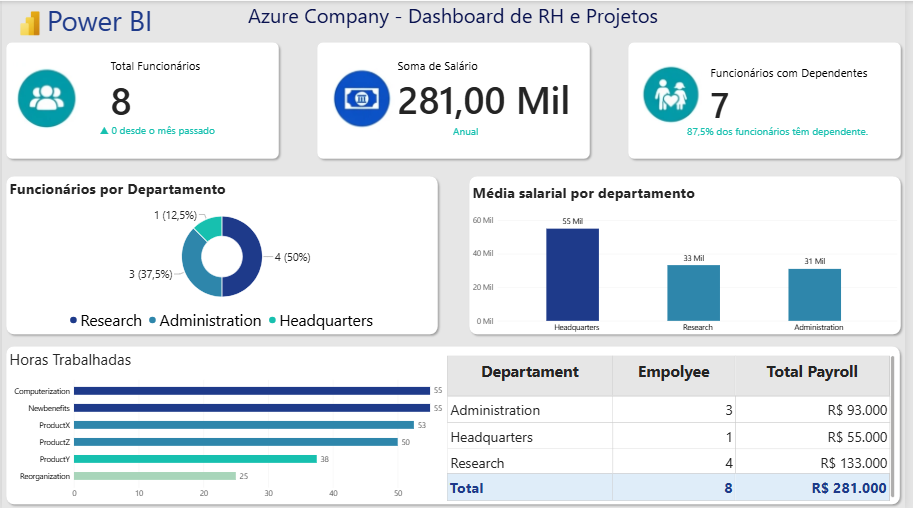

Layout of this report page (visuals, bound fields, positions):
{"tool":"powerbi","page":{"name":"Página 1","canvas":[1920,1080],"ordinal":0},"visuals":[{"type":"shape","box":[661.2,79.4,597.4,265.7],"z":0,"group":"g1"},{"type":"shape","box":[0,362.5,935.3,354],"z":0},{"type":"shape","box":[1322.4,79.4,597.4,265.7],"z":1000,"group":"g1"},{"type":"shape","box":[984.7,362.5,935.3,354],"z":1000},{"type":"shape","box":[0,79.4,597.4,265.7],"z":2000,"group":"g1"},{"type":"shape","box":[0,725.1,1917.9,354],"z":2000},{"type":"cardVisual","fields":{"Data":["CountNonNull(azure_company employee.Ssn)"]},"box":[214.5,123.3,248.7,138.2],"z":3000,"group":"g1"},{"type":"textbox","box":[227.4,291.8,223.1,42.9],"z":3000},{"type":"group","id":"g1","title":"Grupo 1","box":[0,79.4,1920,263.9],"z":4000},{"type":"image","box":[19.3,123.3,154.5,156.6],"z":4000,"group":"g1"},{"type":"cardVisual","fields":{"Data":["Sum(azure_company employee.Salary)"]},"box":[825.9,84.7,431.2,218.8],"z":5000,"group":"g1"},{"type":"donutChart","title":"Funcionários por Departamento","fields":{"Category":["azure_company department.Dname"],"Y":["CountNonNull(azure_company employee.Ssn)"]},"box":[0,362.5,935.3,354],"z":5000},{"type":"image","box":[695.1,136.2,139.4,145.9],"z":6000,"group":"g1"},{"type":"clusteredColumnChart","title":"Média salarial por departamento","fields":{"Category":["azure_company department.Dname"],"Y":["Avg(azure_company employee.Salary)"]},"box":[984.7,371.1,935.3,354],"z":6000},{"type":"textbox","box":[958.9,262.7,126.6,42.9],"z":7000,"group":"g1"},{"type":"clusteredBarChart","title":"Horas Trabalhadas","fields":{"Category":["azure_company project.Pname"],"Y":["Sum(azure_company works_on.Hours)"]},"box":[0,725.1,961.1,354],"z":7000},{"type":"cardVisual","fields":{"Data":["CountNonNull(azure_company dependent.Essn)"]},"box":[1490.9,104,371.1,195.2],"z":8000,"group":"g1"},{"type":"tableEx","fields":{"Values":["azure_company department.Dname","azure_company employee.Ssn","Sum(azure_company employee.Salary)"]},"box":[928.9,740.1,984.7,338.9],"z":8000},{"type":"image","box":[19.3,17.2,77.2,60.1],"z":9000},{"type":"image","box":[1351.5,131.9,139.4,130.9],"z":9000,"group":"g1"},{"type":"textbox","box":[96.5,0,426.9,92.2],"z":9001},{"type":"textbox","box":[523.4,0,976.1,66.5],"z":9002},{"type":"textbox","box":[1456.6,262.7,439.8,42.9],"z":10000,"group":"g1"},{"type":"textbox","box":[208.1,260.6,261.7,47.2],"z":11000,"group":"g1"}]}

Visuals, with their boxes on the page's 1920x1080 design canvas (x1, y1, x2, y2). These are canvas units, not pixel positions in the 913x508 screenshot, which may show the page scaled, cropped or inside an application window:
shape: 661,79,1259,345
shape: 0,362,935,716
shape: 1322,79,1920,345
shape: 985,362,1920,716
shape: 0,79,597,345
shape: 0,725,1918,1079
cardVisual - CountNonNull(azure_company employee.Ssn): 214,123,463,262
textbox: 227,292,450,335
"Grupo 1" group: 0,79,1920,343
image: 19,123,174,280
cardVisual - Sum(azure_company employee.Salary): 826,85,1257,304
"Funcionários por Departamento" donutChart: 0,362,935,716
image: 695,136,834,282
"Média salarial por departamento" clusteredColumnChart: 985,371,1920,725
textbox: 959,263,1086,306
"Horas Trabalhadas" clusteredBarChart: 0,725,961,1079
cardVisual - CountNonNull(azure_company dependent.Essn): 1491,104,1862,299
tableEx - azure_company department.Dname x azure_company employee.Ssn: 929,740,1914,1079
image: 19,17,96,77
image: 1352,132,1491,263
textbox: 96,0,523,92
textbox: 523,0,1500,66
textbox: 1457,263,1896,306
textbox: 208,261,470,308
